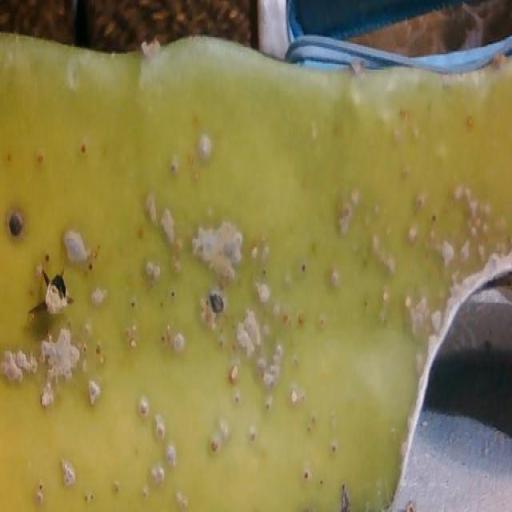stemcanker: (193, 128, 217, 162), (146, 458, 166, 490), (32, 480, 51, 510), (144, 259, 164, 286), (162, 152, 180, 181), (170, 329, 188, 357), (226, 359, 244, 384), (304, 412, 320, 437), (137, 394, 151, 422), (126, 332, 140, 359), (80, 487, 98, 508), (153, 416, 168, 441), (260, 391, 275, 416), (174, 485, 188, 511), (244, 424, 260, 446), (75, 138, 92, 158), (92, 341, 107, 363), (398, 163, 416, 181), (463, 110, 476, 134), (261, 240, 272, 268), (327, 267, 340, 290), (290, 351, 302, 375), (165, 446, 178, 468), (327, 439, 342, 458), (398, 104, 412, 124), (34, 146, 47, 166), (112, 478, 125, 498), (208, 436, 222, 454), (408, 125, 422, 143), (134, 222, 146, 243), (301, 465, 313, 485), (281, 311, 294, 329), (42, 247, 54, 266), (230, 390, 246, 404), (128, 294, 138, 316), (389, 126, 401, 144), (425, 229, 437, 247), (288, 387, 298, 408), (250, 240, 259, 263), (371, 200, 382, 218), (299, 257, 308, 279), (3, 149, 14, 167), (380, 286, 390, 305), (139, 483, 149, 501), (430, 208, 439, 227), (316, 475, 327, 490), (297, 309, 306, 327), (192, 170, 201, 186), (84, 262, 96, 274), (169, 286, 177, 300), (318, 314, 324, 331)
